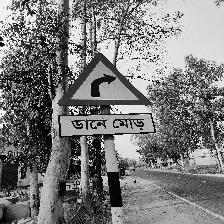Right-turn: (56, 52, 156, 137)
